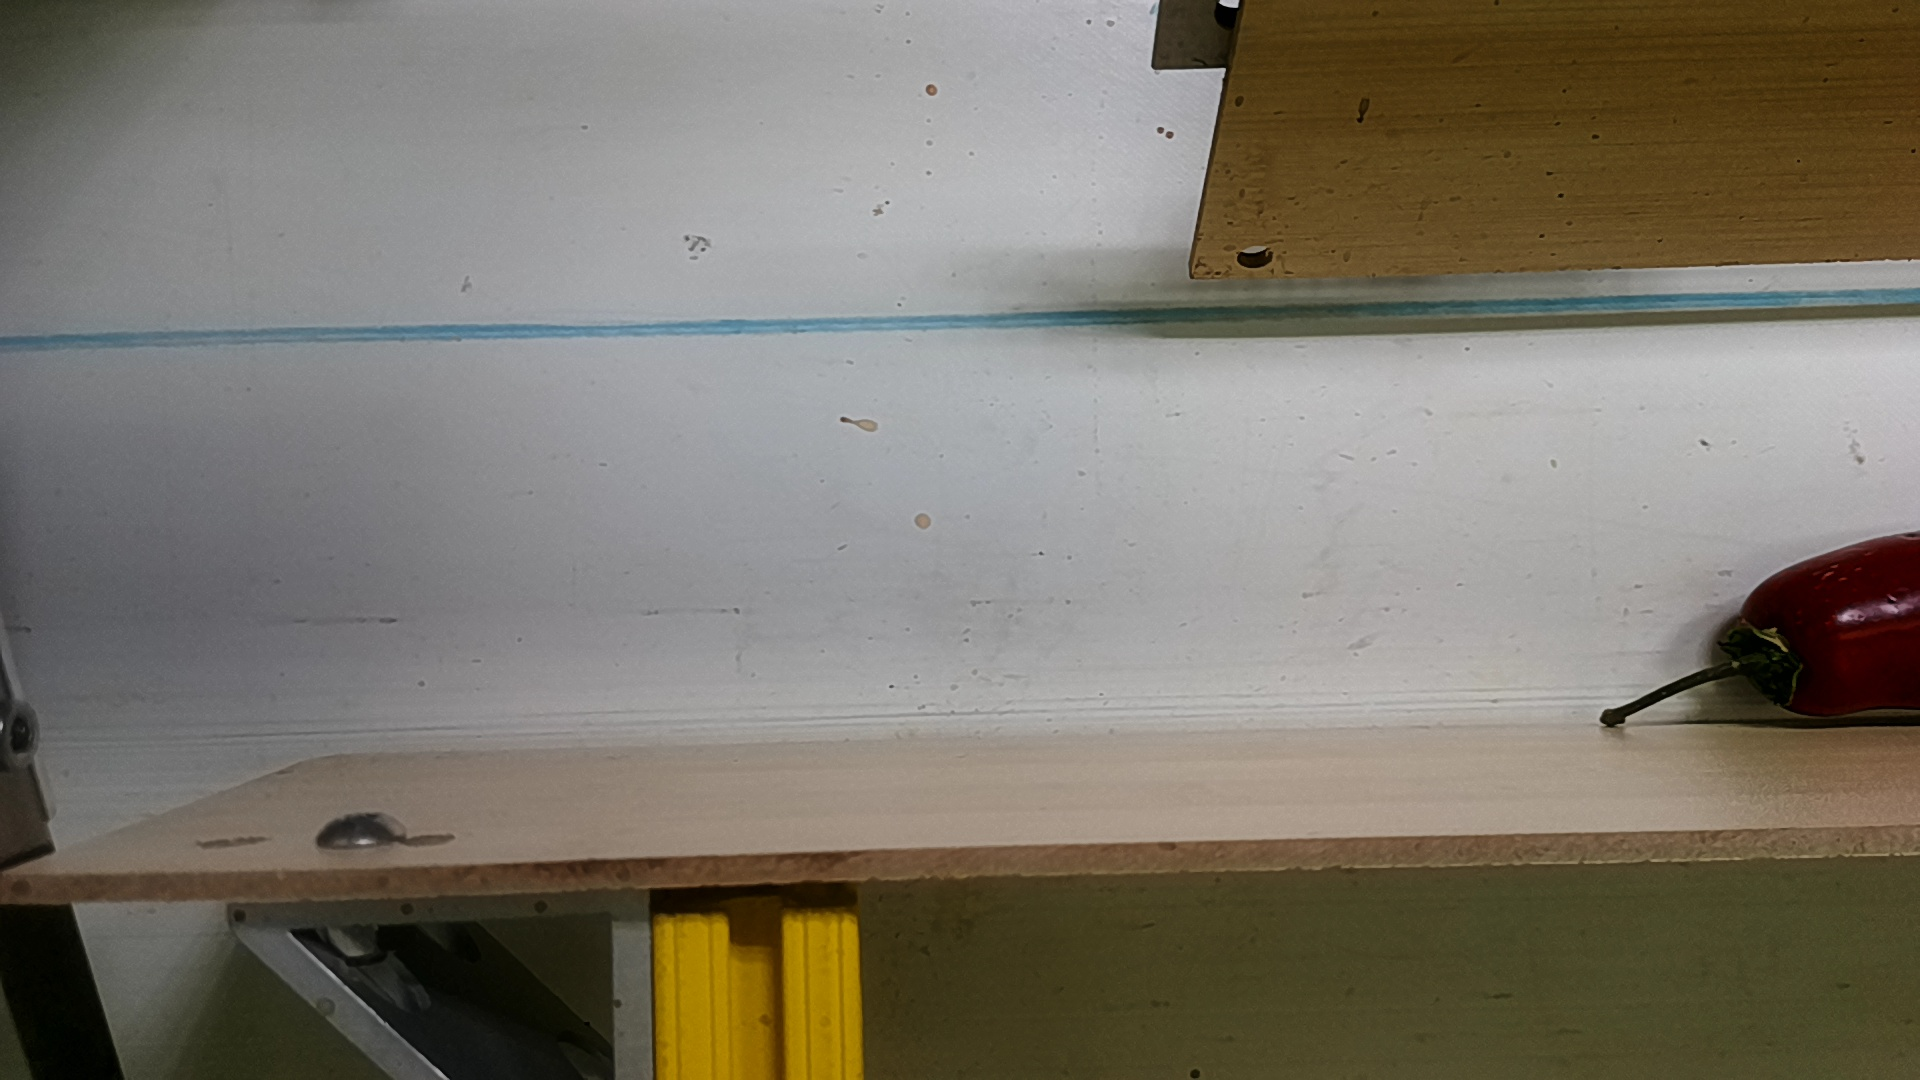Cut Point: (1716, 560, 1855, 723)
